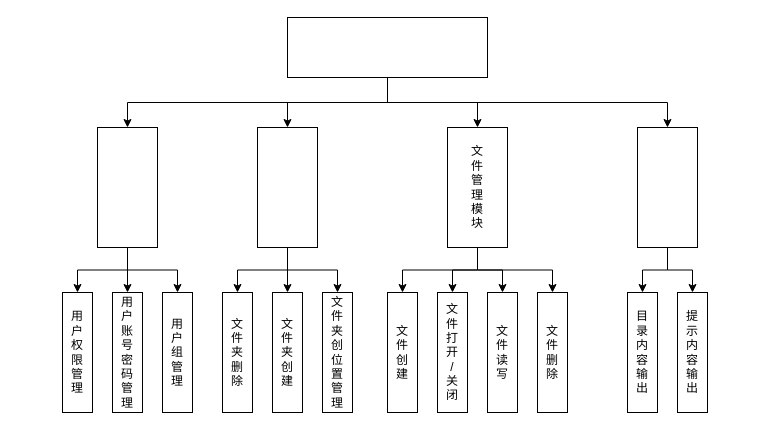
Some shapes in this 769 by 430 pixel diagram are drawn without their labels. Here are the shapes that lost their labels. From the top down, the centre of each, then its label:
At pixel 387 47: "多用户文件管理系统".
At pixel 127 187: "用 户 管 理 模 块".
At pixel 287 187: "文 件 夹 管 理 模 块".
At pixel 667 187: "控 制 输 出 模 块".
